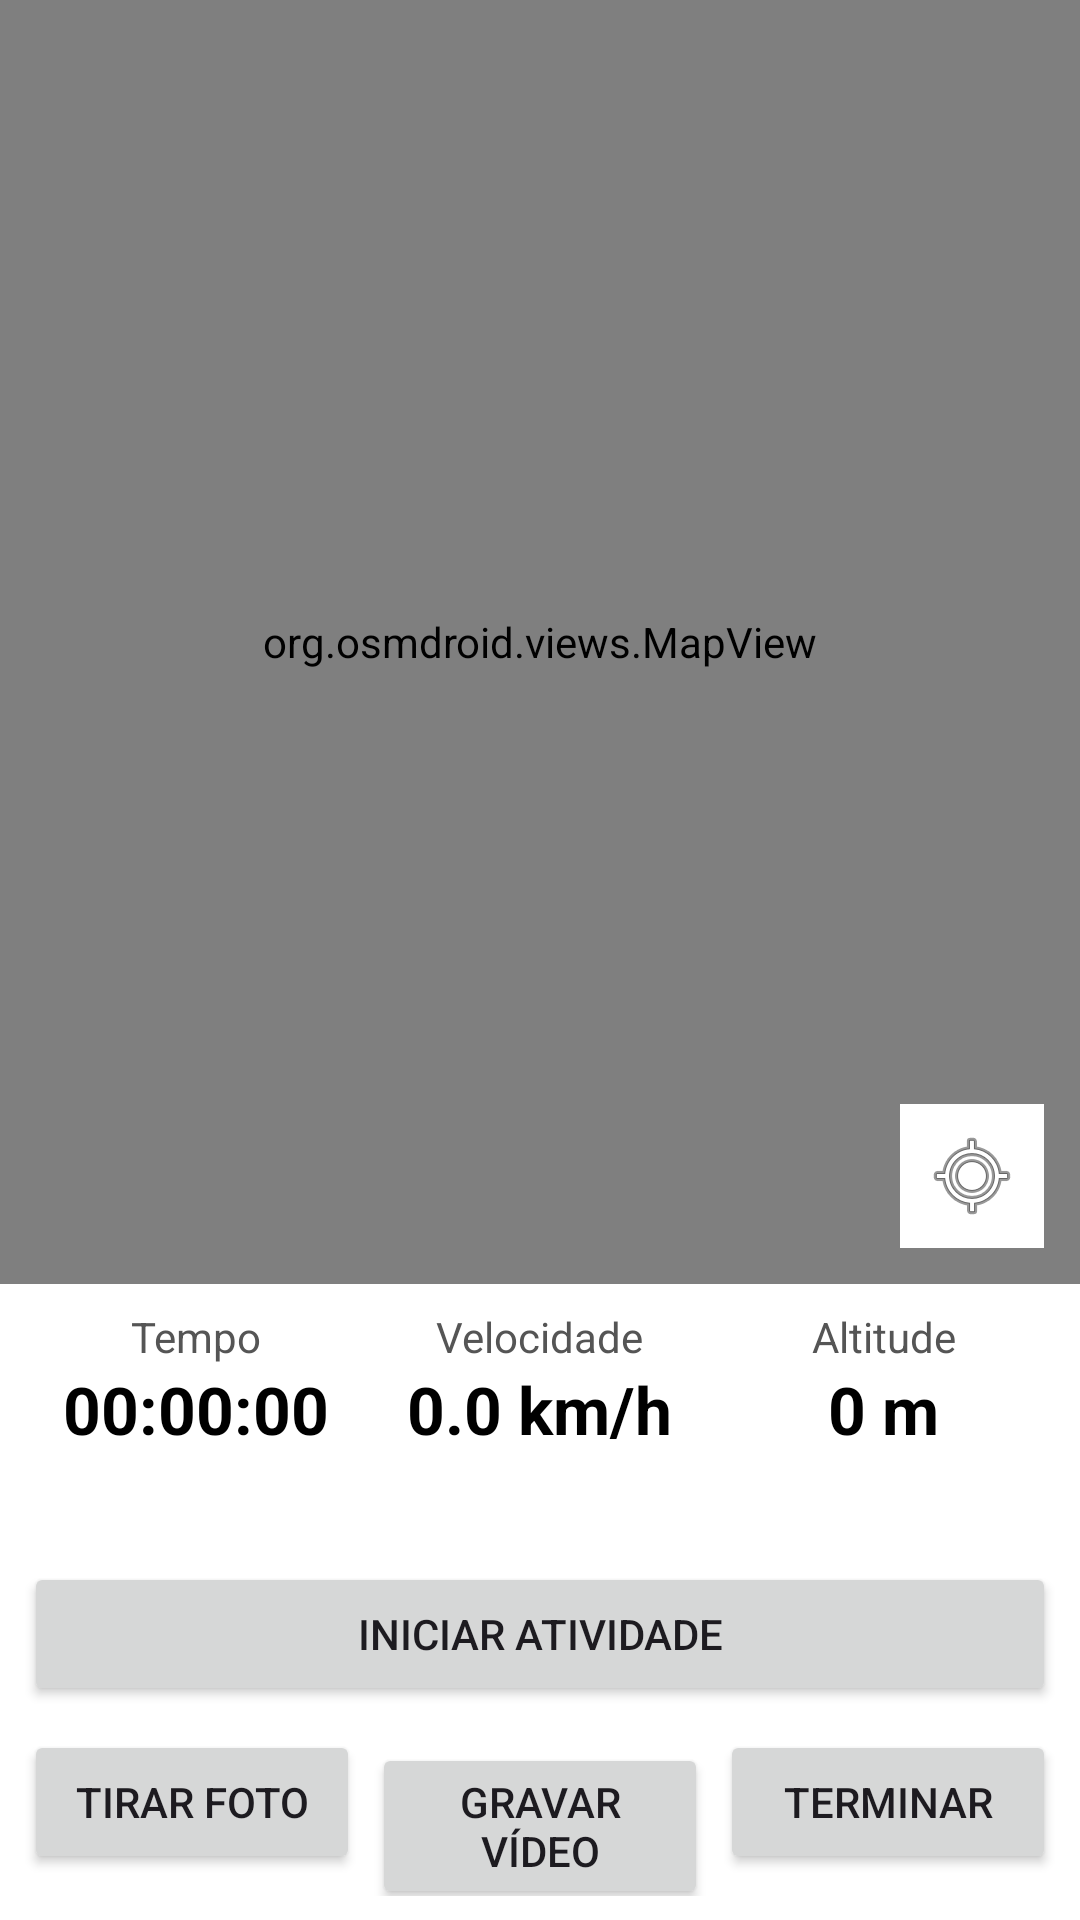

Locate icon controls on the screen. Image size 1080px×1920px, boxes as (x1, y1, x2, y2).
Centrar o mapa em mim: (900, 1104, 1044, 1248)
